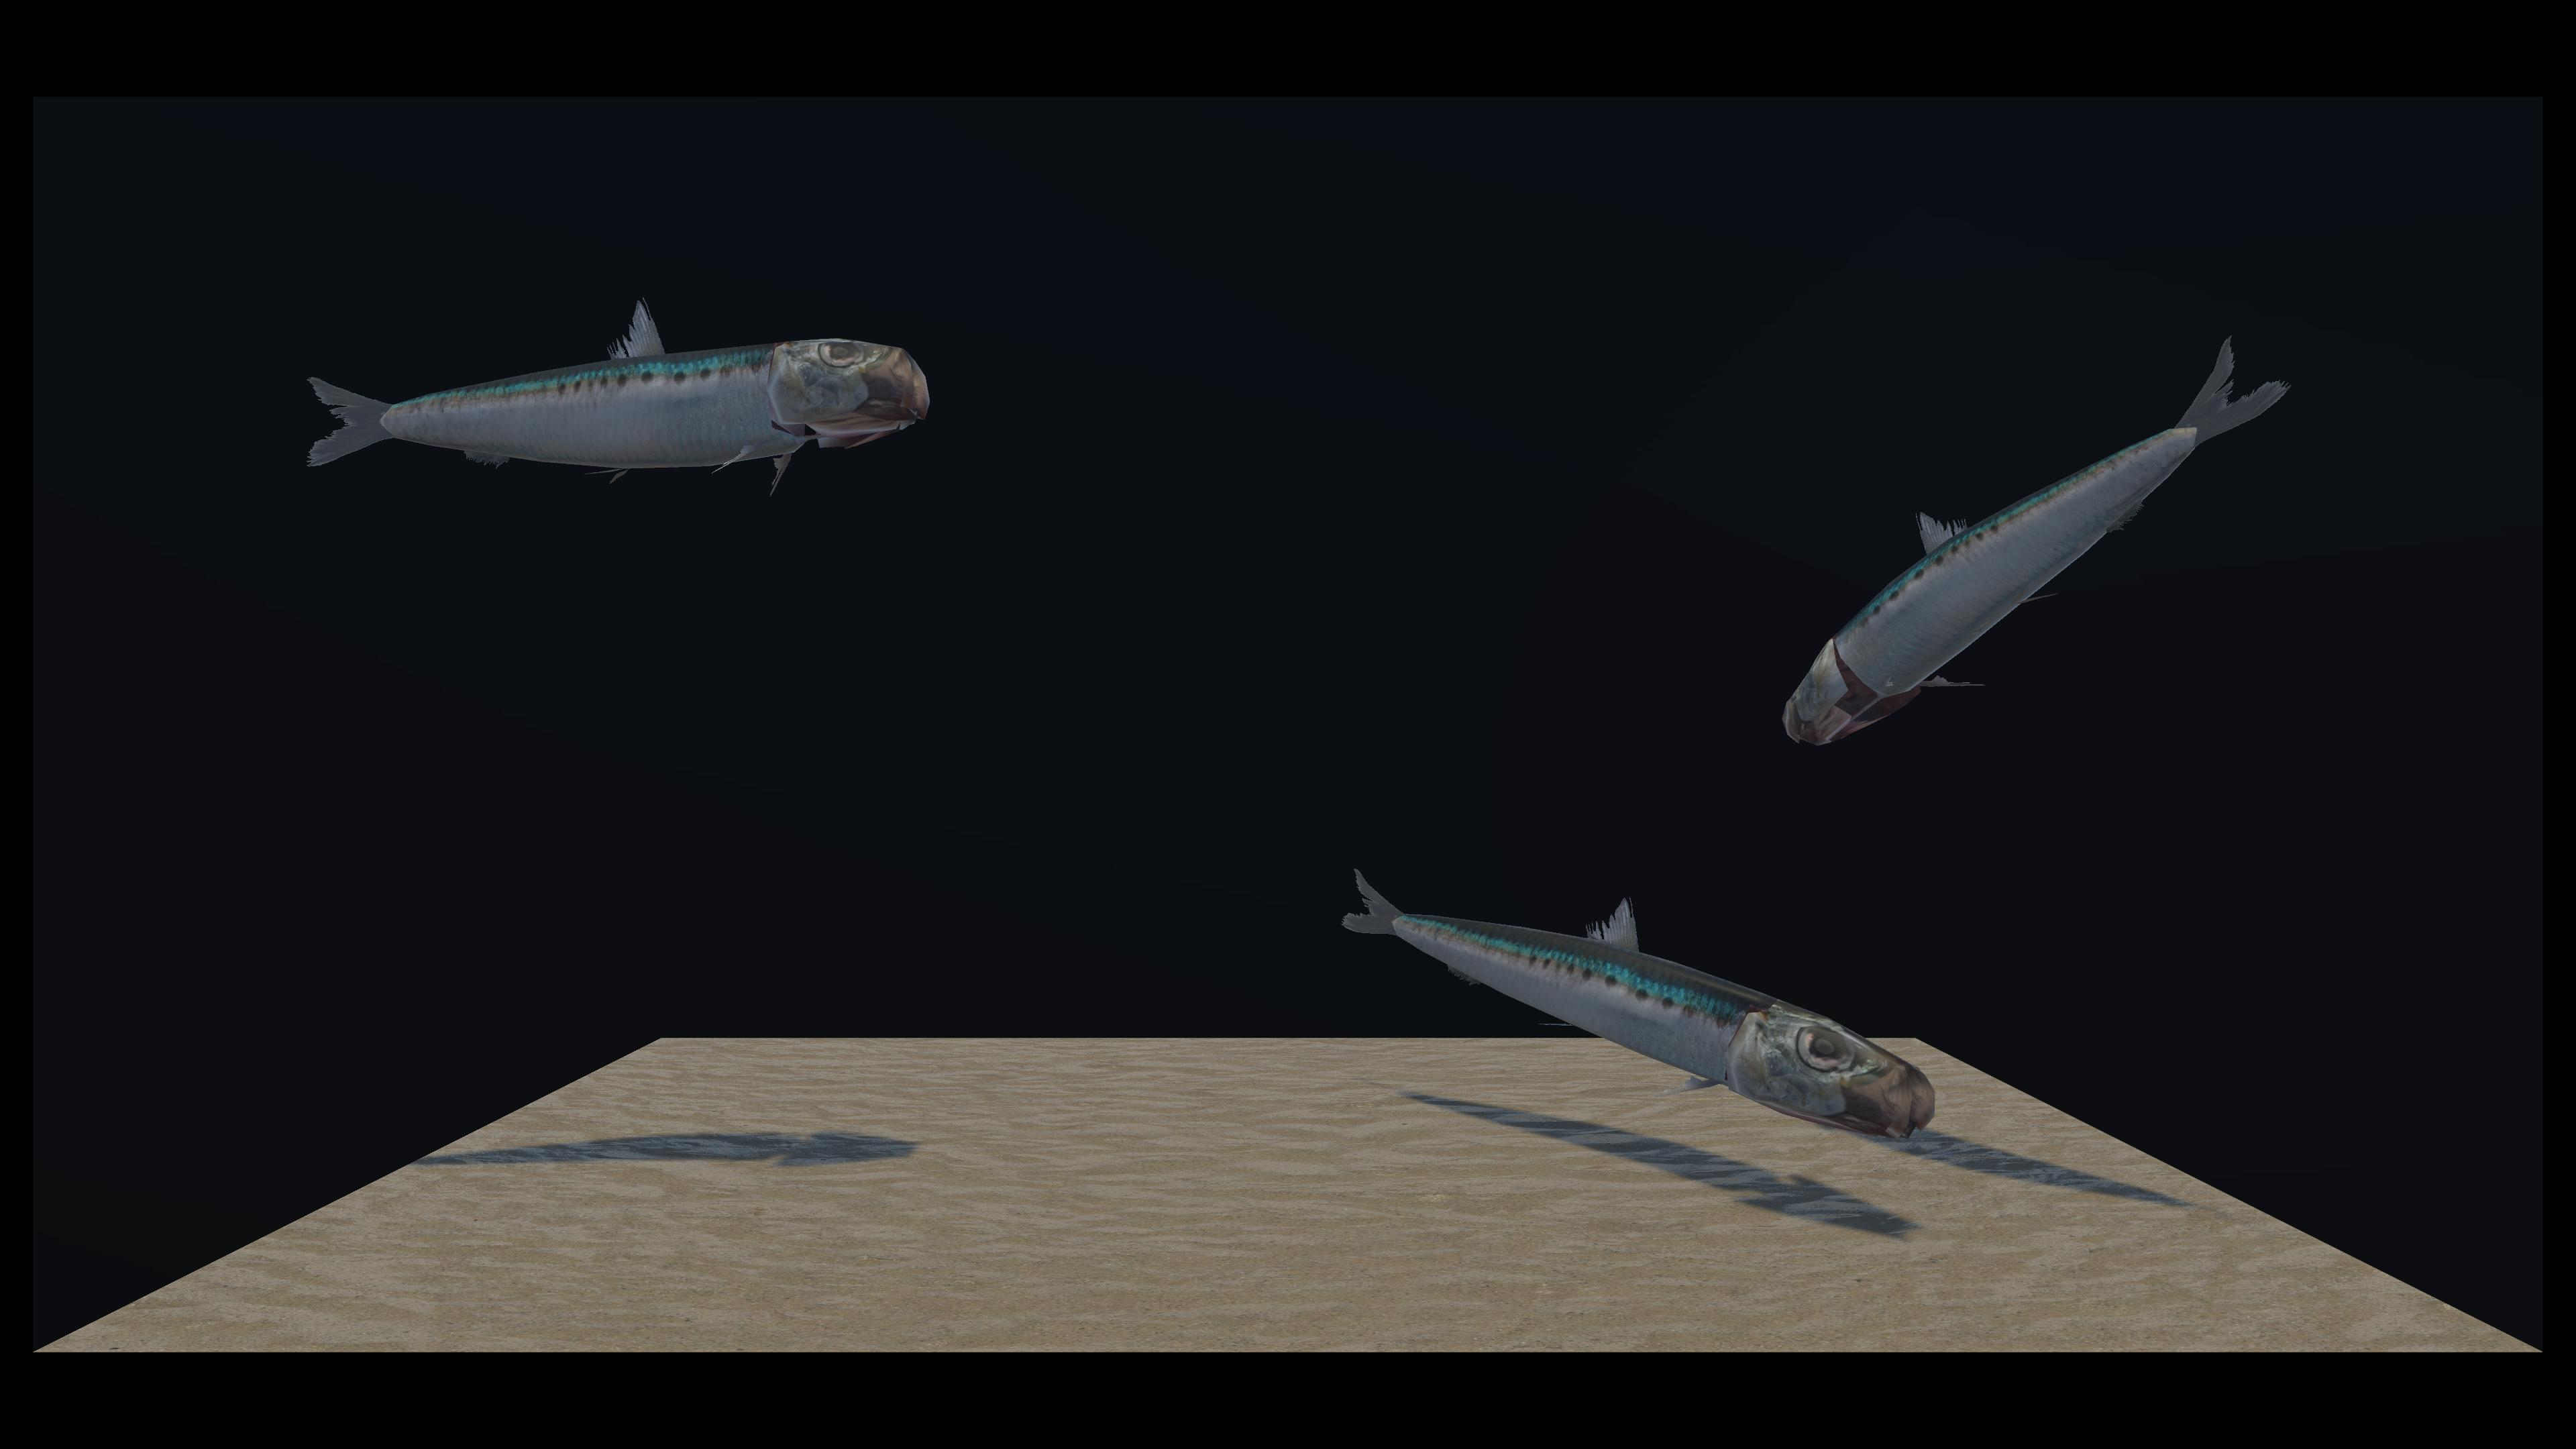Sardine_Front: (784, 425, 1904, 1111), (830, 334, 2293, 697), (311, 313, 899, 499)
